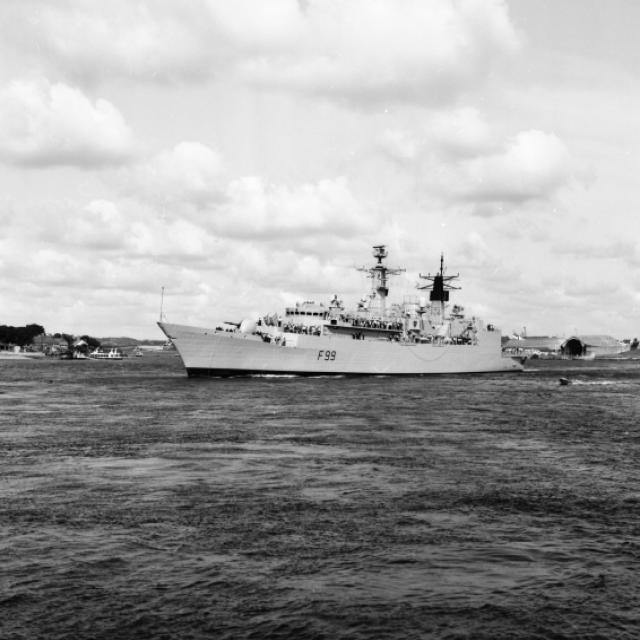Fragata: (153, 229, 523, 386)
